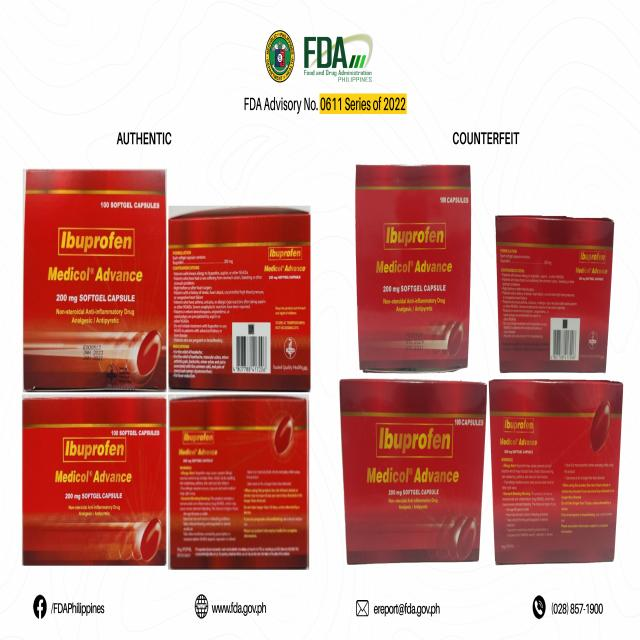authentic: (23, 160, 166, 393), (169, 195, 314, 392), (170, 394, 309, 570), (22, 394, 165, 565)
counterfeit: (340, 376, 486, 572), (353, 159, 472, 371), (490, 376, 624, 564), (491, 207, 613, 372)
